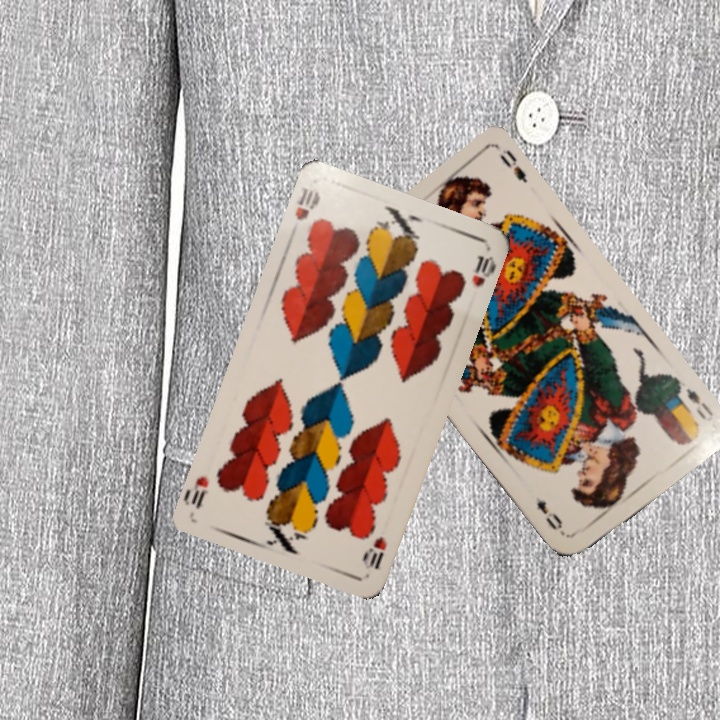EO: (681, 384, 716, 424)
H10: (291, 183, 323, 223), (358, 532, 390, 572)
